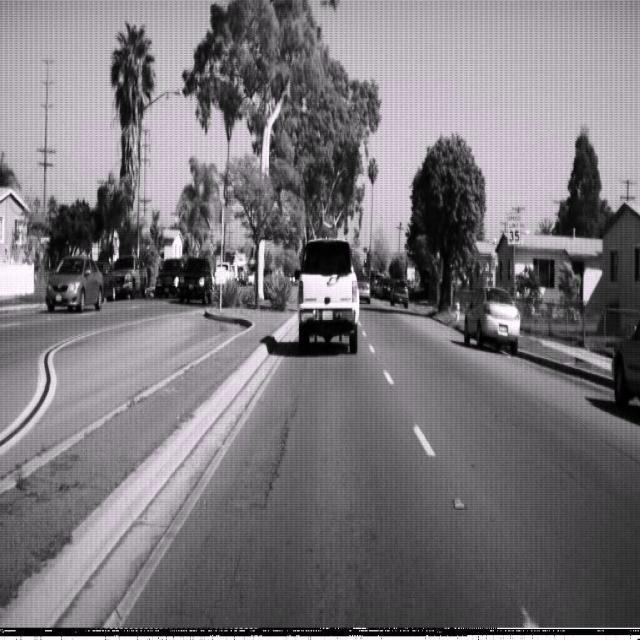speedLimit35: (506, 208, 522, 246)
